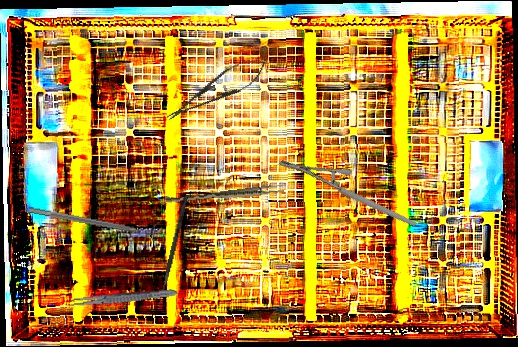Dressing Forceps: (65, 286, 178, 310)
Fixation Ring: (27, 199, 160, 243)
Hook Surgical: (157, 194, 189, 307)
Needle Holder: (277, 124, 418, 264), (160, 48, 274, 131)
Tissue Forceps: (164, 181, 285, 208)
